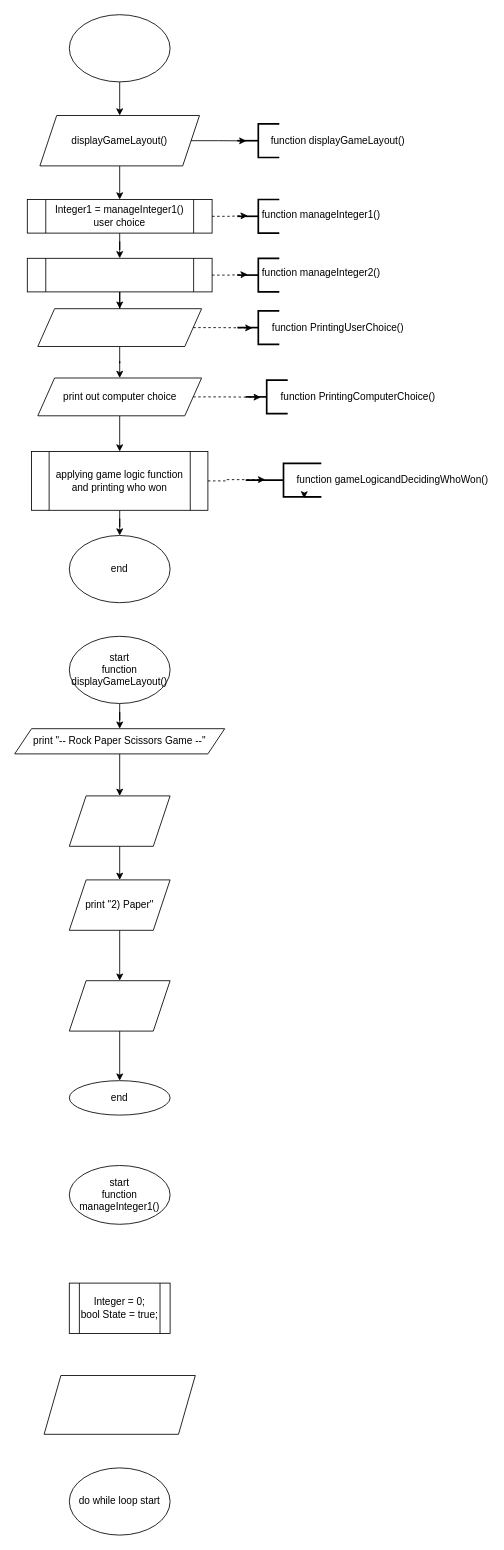
The diagram is 504 pixels wide and 1550 high, and some of its shapes have lost their labels. Each missing label, with the centre of its shape:
Integer2 = manageInteger2() computer choice: the point at 119,274
print "1) Rock": the point at 119,820
print "3) Paper": the point at 119,1005
print "Choose (1 - 3):" input Integer: the point at 119,1404
print out user choice: the point at 119,327
start rps game: the point at 119,48
